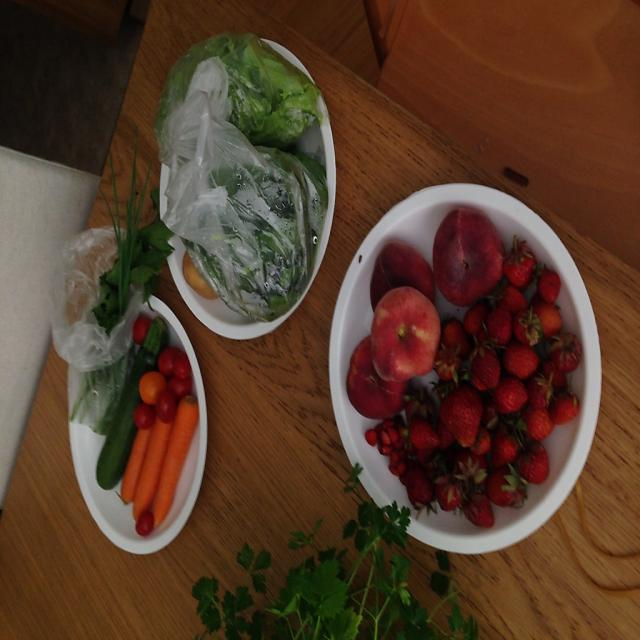non-organic waste: (338, 178, 615, 555)
